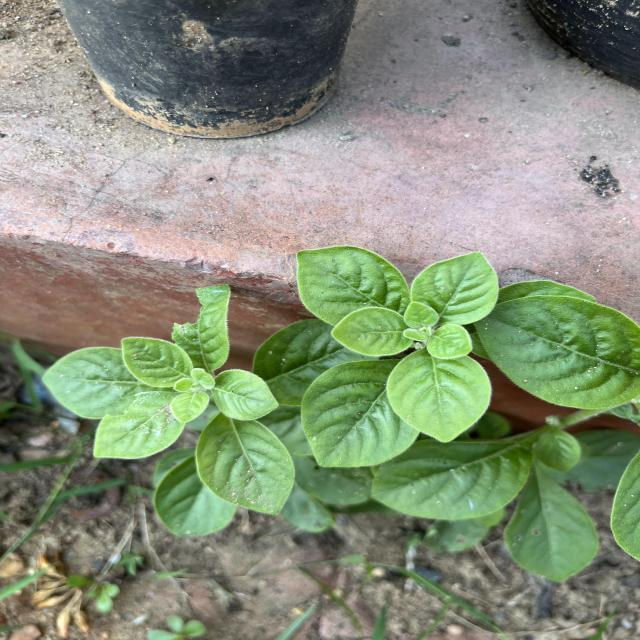Aerva lanata: (298, 357, 422, 469), (382, 346, 496, 445), (293, 244, 413, 328), (407, 248, 502, 327), (327, 305, 414, 359)
